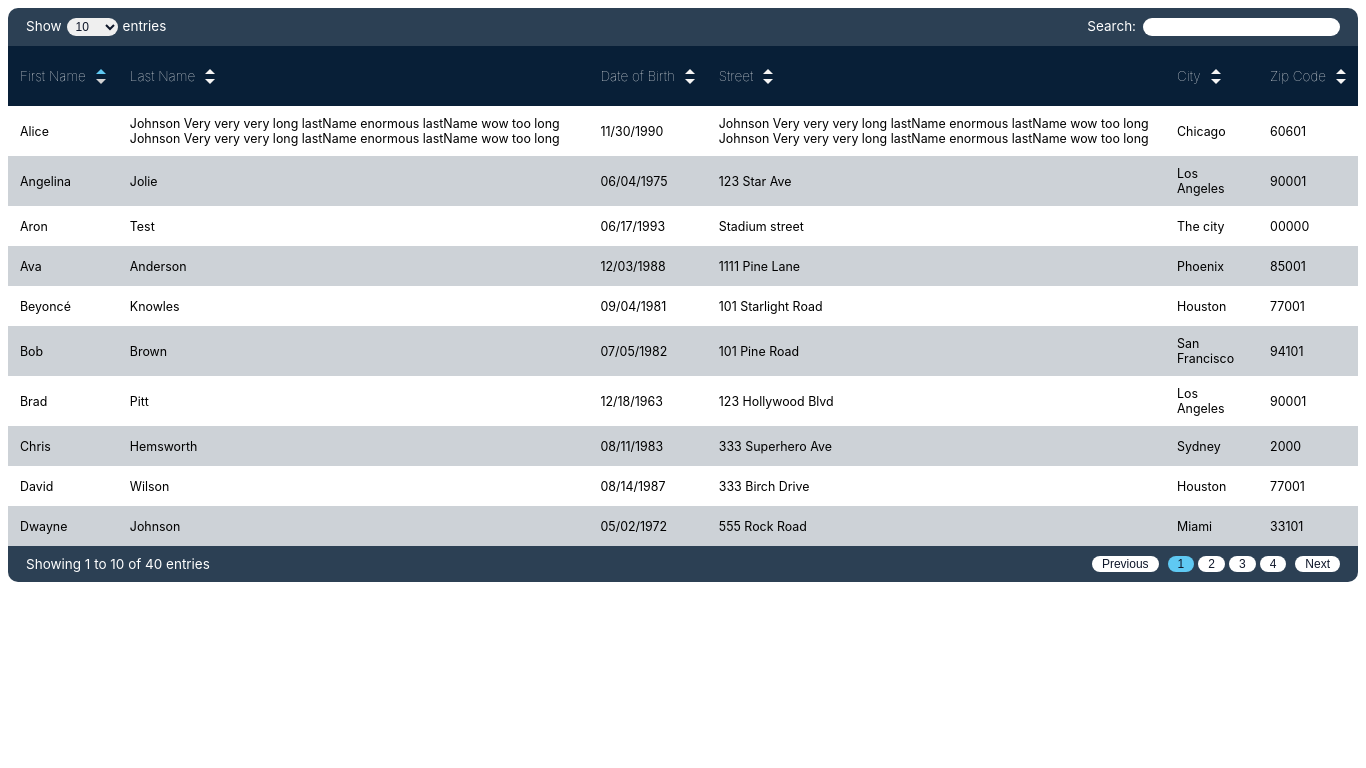
Scenario: TableInfo interactions tests suite › TableInfo displays accurate information when filtering applied using the keyword 'Paris'
The width and height of the screenshot is (1366, 768).
Type "Paris" into the field with test id "table-filter-input".
click(1242, 27); type("Paris")  # box [1143,18,1340,36]
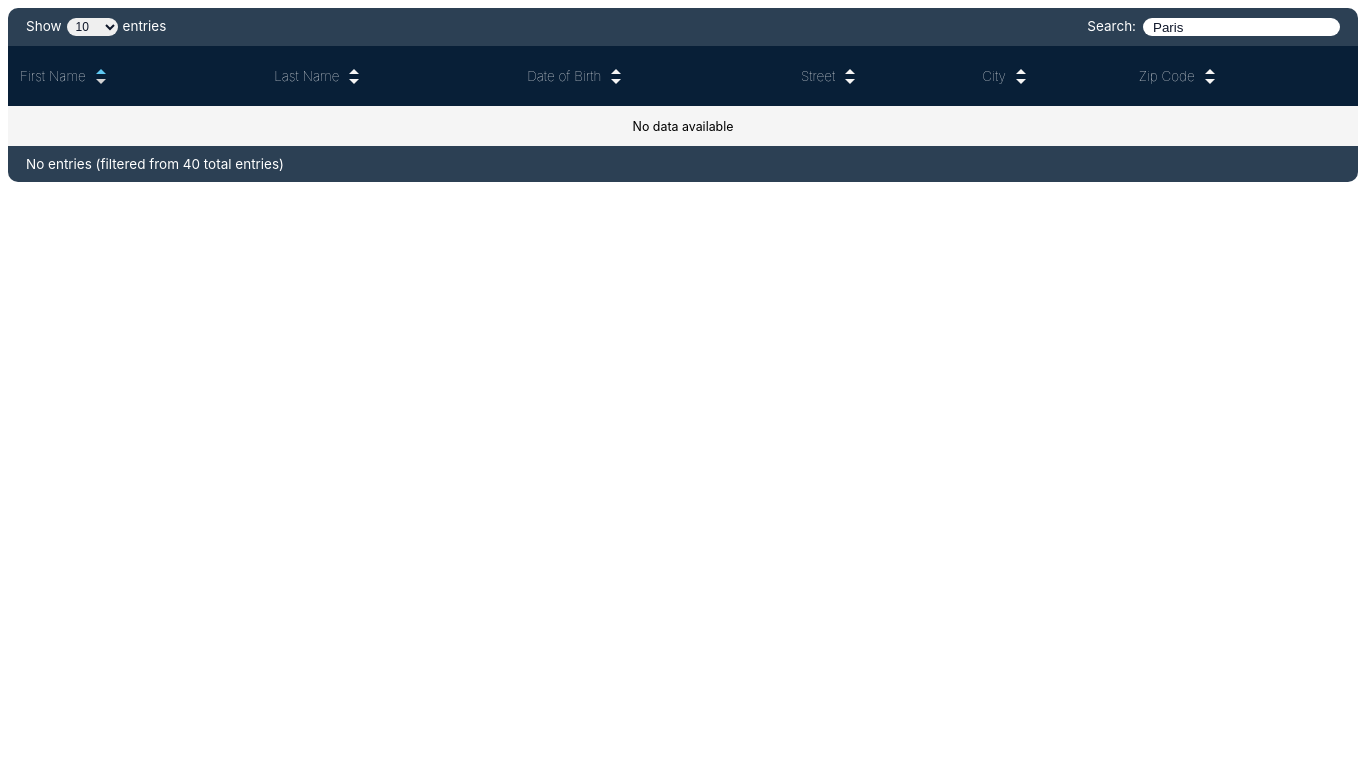
Result: the text with test id "table-info" reads "No entries (filtered from 40 total entries)" at [26,156,284,172]
